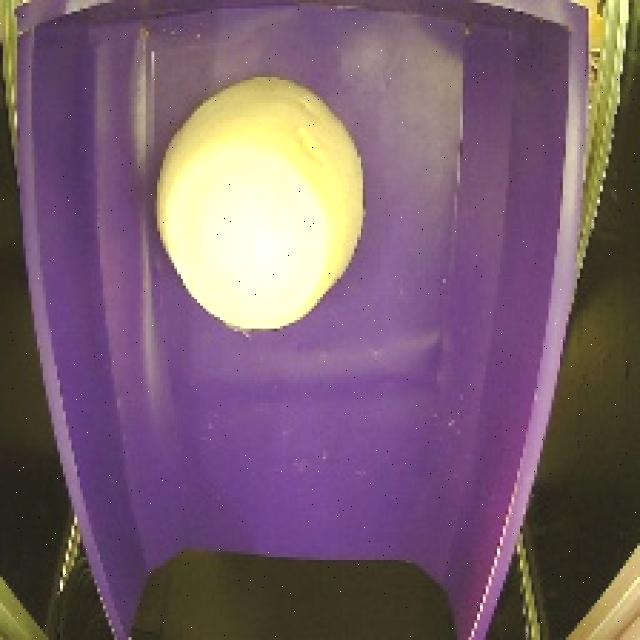white_radish: (144, 74, 382, 347)
